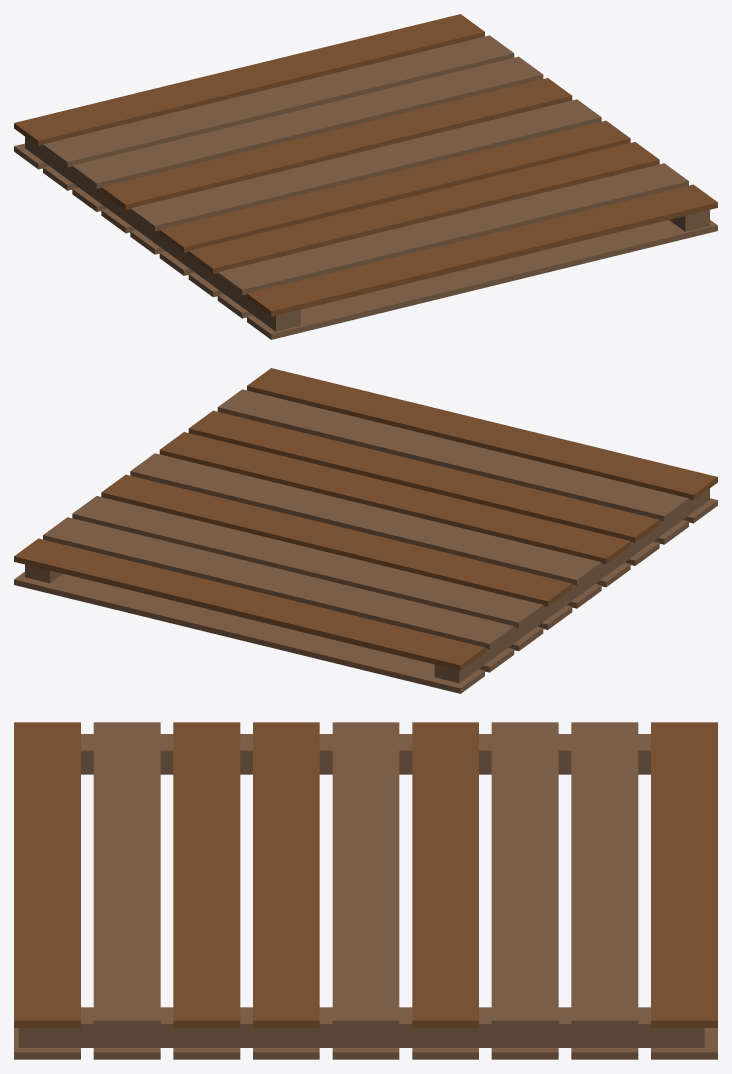
File: SM_stand_01.glb
3 views of the same model, one above another, from view 1: azimuth 30°, elevation 25°; view 2: azimuth 150°, elevation 25°; view 3: azimuth 270°, elevation 25° (orthographic). The views are drawn at different scales.
Visible parts, largest first — view 1: SM_stand_01; view 2: SM_stand_01; view 3: SM_stand_01.
Boxes of the visible parts, box(x1,y1,x2,y2) form: SM_stand_01: box(14, 14, 717, 339); SM_stand_01: box(14, 368, 717, 693); SM_stand_01: box(14, 722, 717, 1059).
Size of the model in its own units: 1.23 by 0.0755 by 1.23.
Materials: 1 (1 with a texture image).
